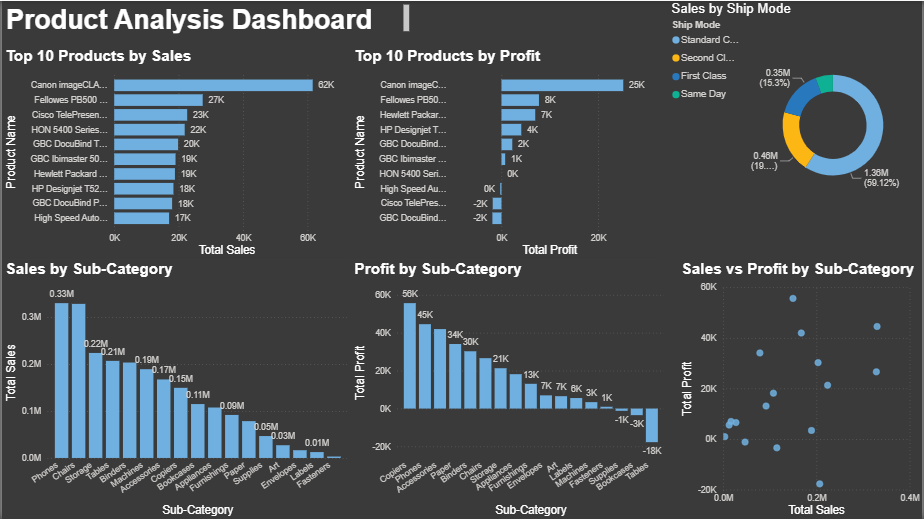

The page's visual inventory and layout, read from the dashboard file:
{"tool":"powerbi","page":{"name":"Product Analysis","canvas":[1280,720],"ordinal":1},"visuals":[{"type":"clusteredBarChart","title":"Top 10 Products by Sales","fields":{"Category":["Sales Data.Product Name"],"Y":["Sales Data.Total Sales"]},"box":[0,63.8,485.5,295.6],"z":0},{"type":"clusteredBarChart","title":"Top 10 Products by Profit","fields":{"Category":["Sales Data.Product Name"],"Y":["Sales Data.Total Profit"]},"box":[485.5,63.8,426.7,295.6],"z":1000},{"type":"clusteredColumnChart","title":"Sales by Sub-Category","fields":{"Category":["Sales Data.Sub-Category"],"Y":["Sales Data.Total Sales"]},"box":[0,359.5,485.5,361.2],"z":2000},{"type":"clusteredColumnChart","title":"Profit by Sub-Category","fields":{"Category":["Sales Data.Sub-Category"],"Y":["Sales Data.Total Profit"]},"box":[485.5,359.5,440.1,361.2],"z":3000},{"type":"donutChart","title":"Sales by Ship Mode","fields":{"Category":["Sales Data.Ship Mode"],"Y":["Sales Data.Total Sales"]},"box":[925.6,0,354.4,324.2],"z":4000},{"type":"scatterChart","title":"Sales vs Profit by Sub-Category","fields":{"X":["Sales Data.Total Sales"],"Y":["Sales Data.Total Profit"],"Category":["Sales Data.Sub-Category"]},"box":[939,359.5,341,361.2],"z":5000},{"type":"textbox","box":[0,0,571.1,50.4],"z":7000}]}

Visuals, with their boxes in screenshot pixels (x1, y1, x2, y2), scaled from the page's 1280x720 canvas onto the 924x519 screenshot:
"Top 10 Products by Sales" clusteredBarChart: bbox=[0, 46, 350, 259]
"Top 10 Products by Profit" clusteredBarChart: bbox=[350, 46, 658, 259]
"Sales by Sub-Category" clusteredColumnChart: bbox=[0, 259, 350, 518]
"Profit by Sub-Category" clusteredColumnChart: bbox=[350, 259, 668, 518]
"Sales by Ship Mode" donutChart: bbox=[668, 0, 923, 234]
"Sales vs Profit by Sub-Category" scatterChart: bbox=[678, 259, 923, 518]
textbox: bbox=[0, 0, 412, 36]
